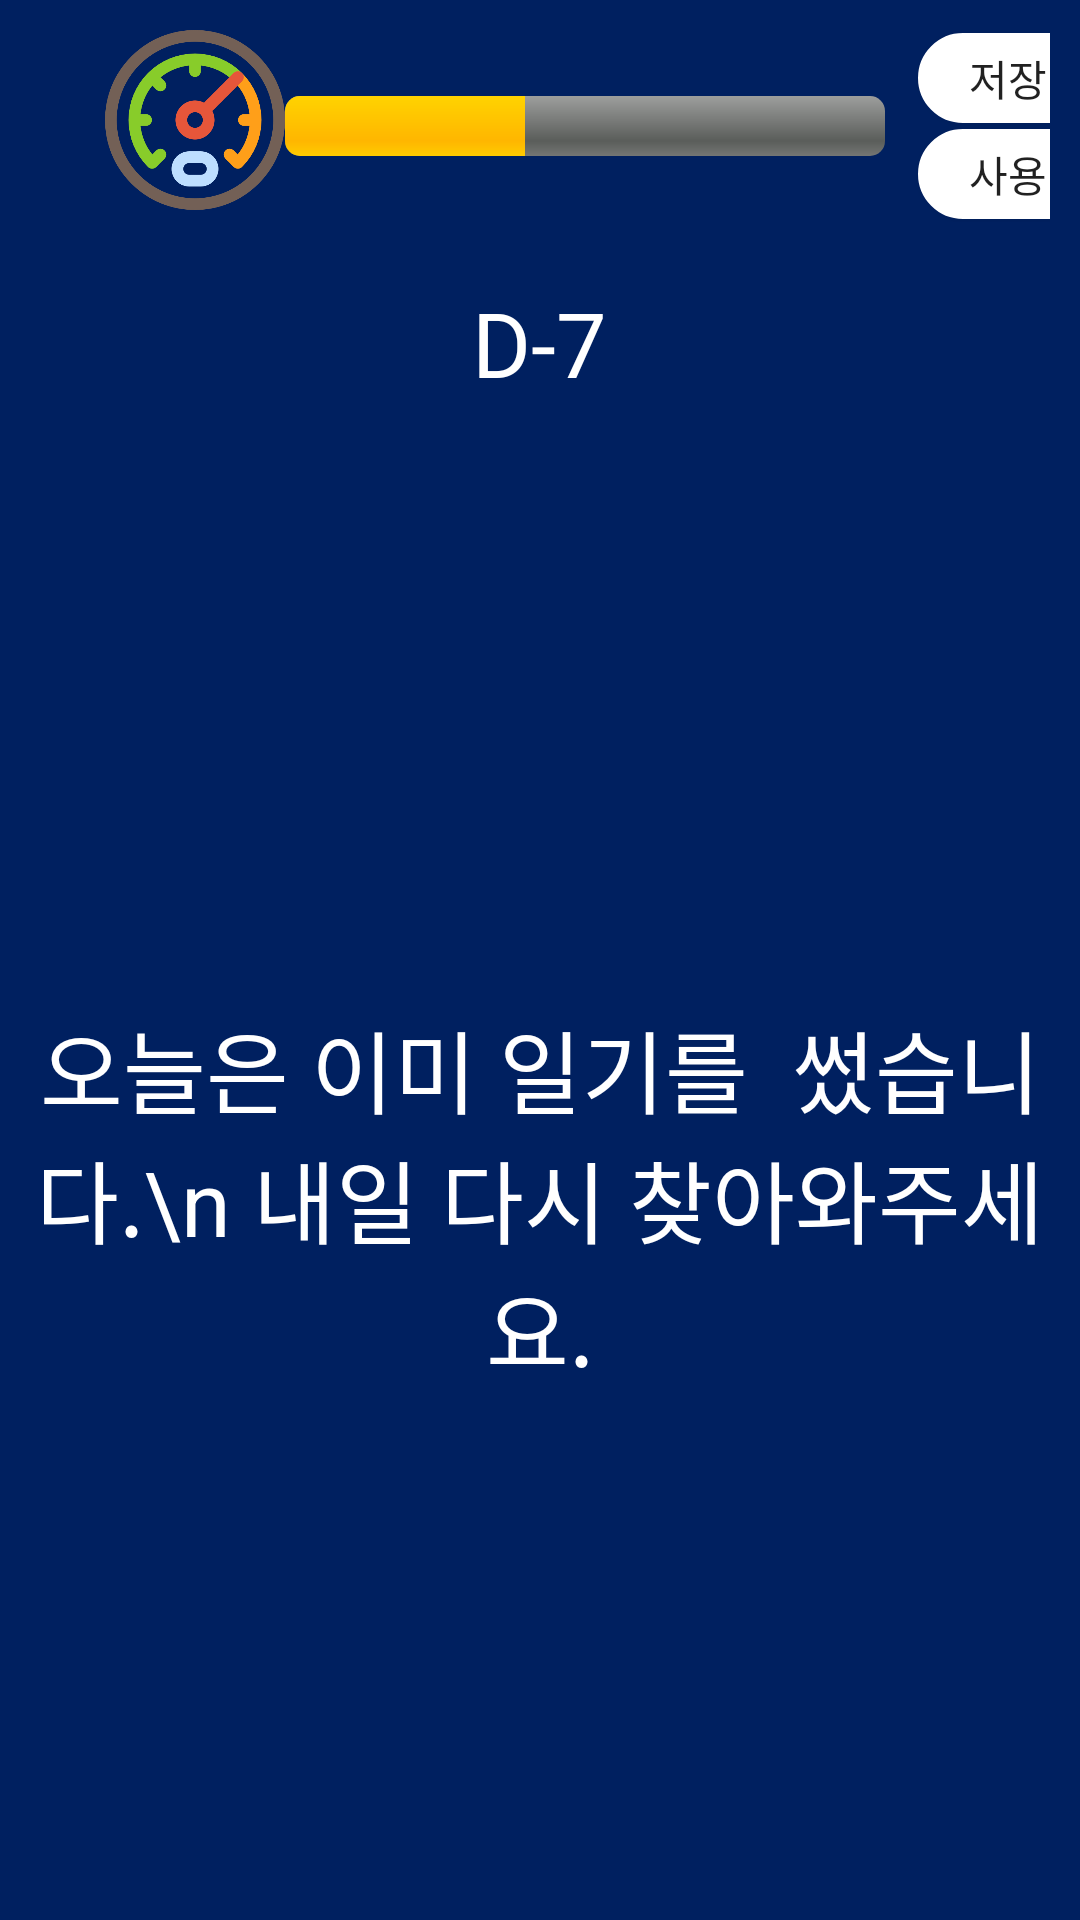

Icon click points for this 1080*1920 phone screenshot, format (x=x, y=y):
gauge: (x=195, y=120)
